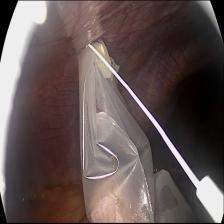Specimen Bag: (71, 35, 193, 224)
